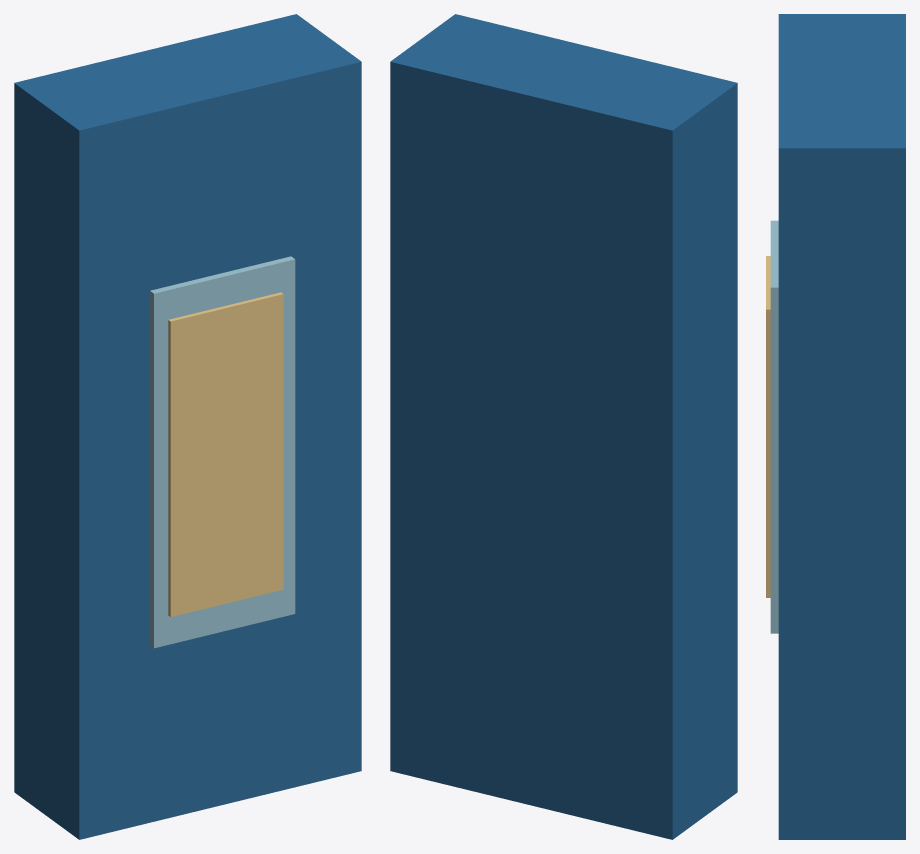
The model's file is FD_PastaBox_01.glb.
3 renders of one model, left to right at view 1: azimuth 30°, elevation 25°; view 2: azimuth 150°, elevation 25°; view 3: azimuth 270°, elevation 25°, orthographic. The views are drawn at different scales.
Parts seen in each view (by area): view 1: FD_PastaBox_01; view 2: FD_PastaBox_01; view 3: FD_PastaBox_01.
Boxes of the visible parts, x1,y1,x2,y2 form: FD_PastaBox_01: (14, 14, 361, 839); FD_PastaBox_01: (390, 14, 737, 839); FD_PastaBox_01: (766, 14, 905, 839).
Bounding box in the file's own units: 0.1 × 0.24 × 0.044.
Materials: 1 (1 with a texture image).
